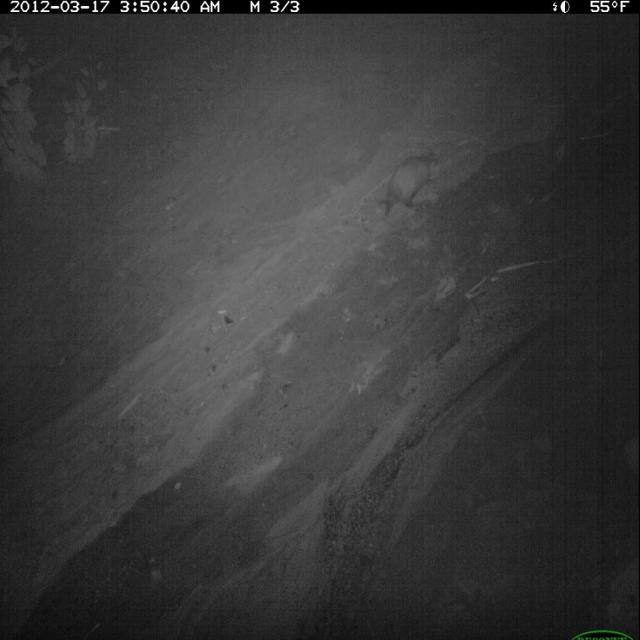opossum: (374, 148, 447, 227)
